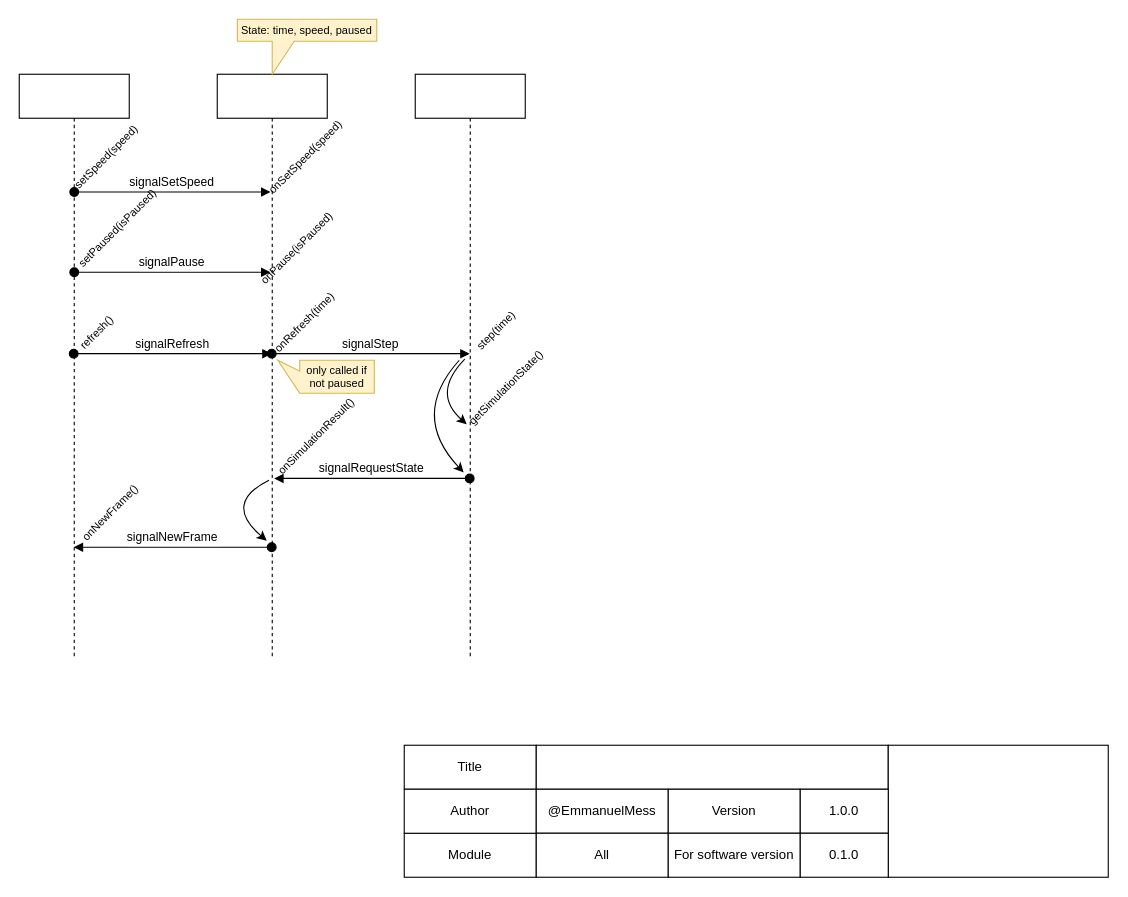
This 1128x897 diagram has some shape labels left out. Here are the shapes that lost their labels. From the top down, the box of each, then its label:
(18, 73, 129, 657): UI
(216, 73, 327, 657): Grapher
(414, 73, 525, 657): Simulator
(535, 744, 888, 789): Graphing sequence
(887, 744, 1108, 877): Constraint Based Simulator
